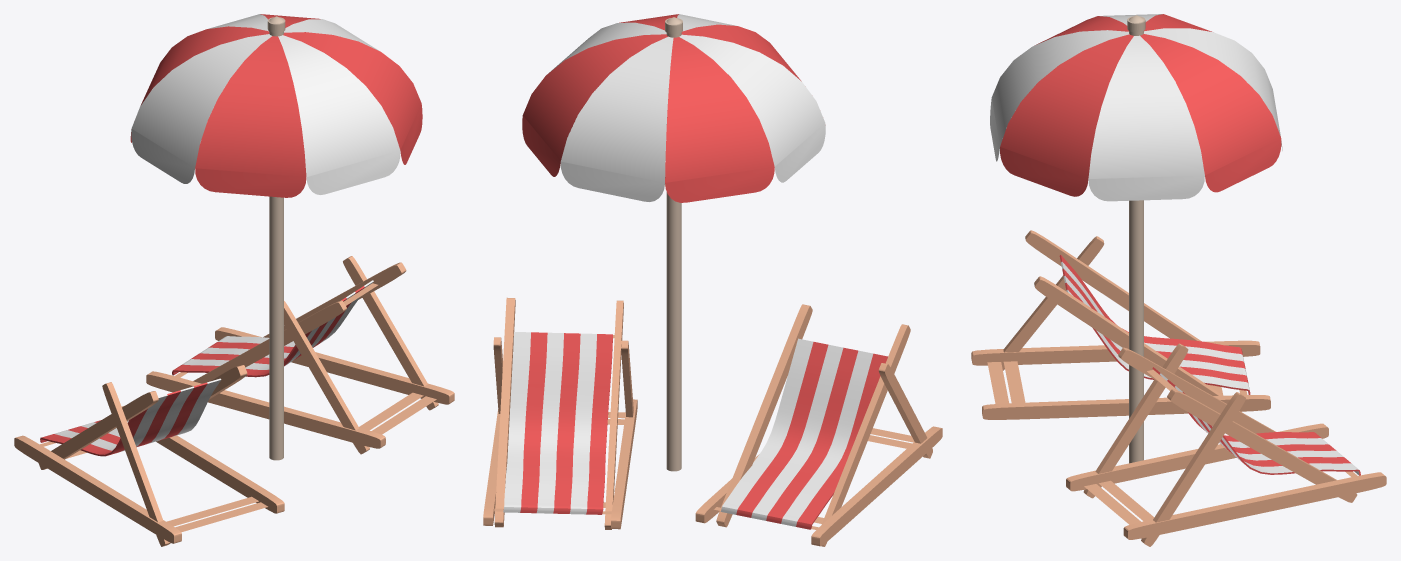
File: outElement5.glb
3 views of the same model, side by side, from view 1: azimuth 30°, elevation 25°; view 2: azimuth 150°, elevation 25°; view 3: azimuth 270°, elevation 25° (orthographic). The views are drawn at different scales.
Visible parts, largest first — view 1: Cube.001; view 2: Cube.001; view 3: Cube.001.
Boxes of the visible parts, <box> form: Cube.001: <box>14,14,454,546</box>; Cube.001: <box>483,14,942,546</box>; Cube.001: <box>971,14,1386,546</box>.
Size of the model in its own units: 7.9 by 8.85 by 7.33.
